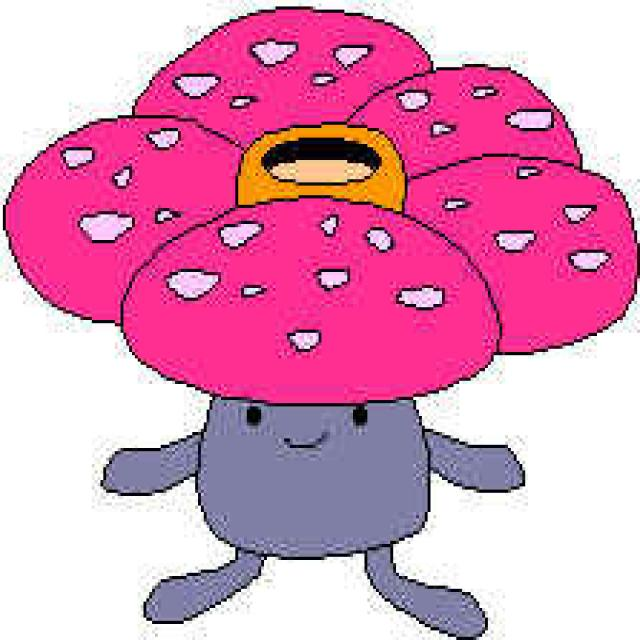Vileplume: (105, 61, 538, 618)
